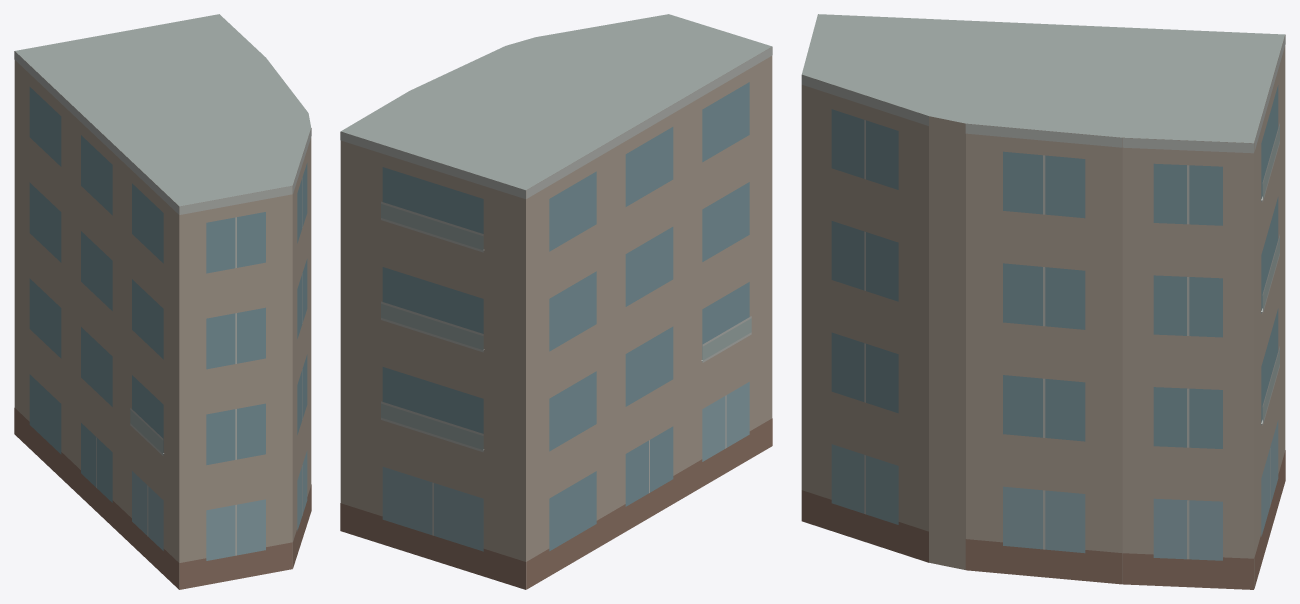
Rendered from survey-upis-32721524.glb.
3 renders of one model, left to right at view 1: azimuth 30°, elevation 25°; view 2: azimuth 150°, elevation 25°; view 3: azimuth 270°, elevation 25°, orthographic. The views are drawn at different scales.
Parts seen in each view (by area): view 1: survey-upis-32721524.tmp; view 2: survey-upis-32721524.tmp; view 3: survey-upis-32721524.tmp.
Part boxes in pixels (<box>): survey-upis-32721524.tmp: <box>14,14,311,589</box>; survey-upis-32721524.tmp: <box>340,14,772,589</box>; survey-upis-32721524.tmp: <box>801,14,1285,589</box>.
Bounding box in the file's own units: 6.71 × 10.8 × 10.61.
